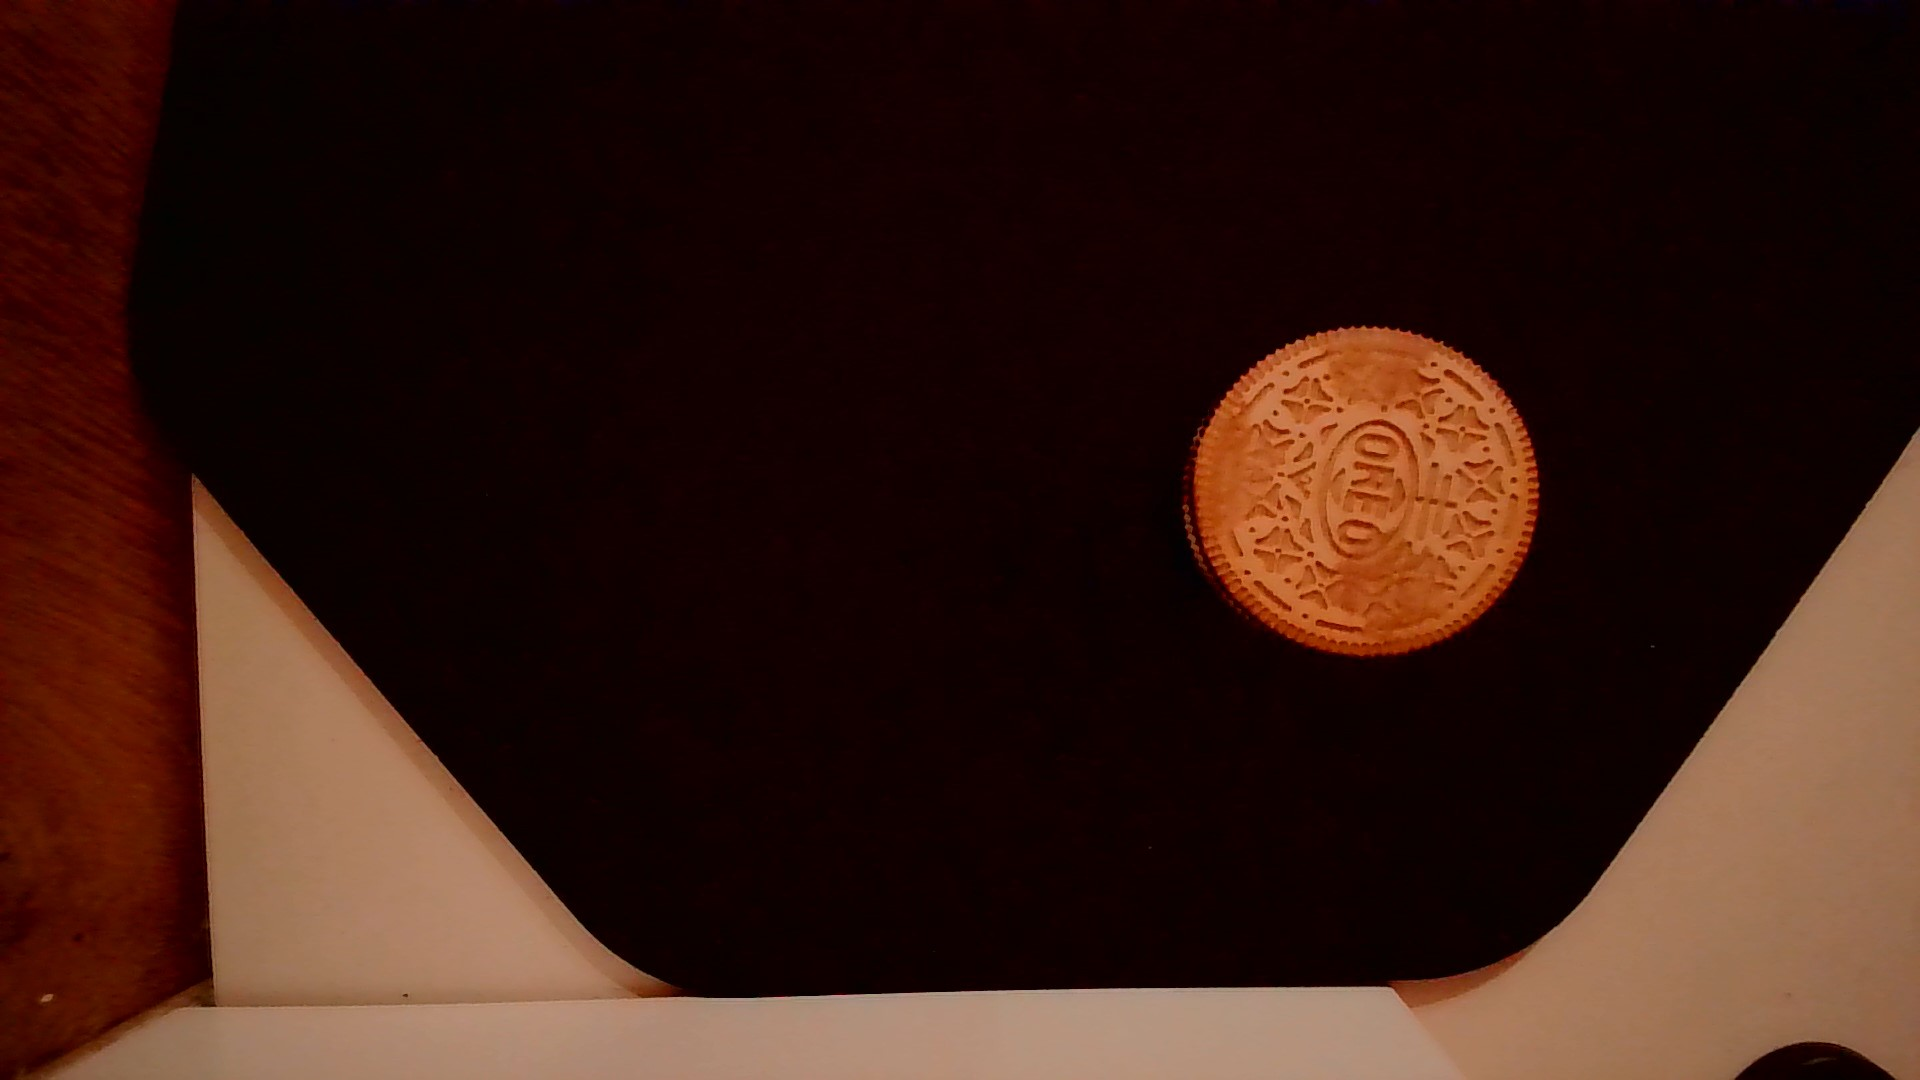Effacé: (1187, 419, 1276, 542), (1346, 556, 1462, 636), (1333, 327, 1439, 392)
Oréo: (1179, 316, 1552, 673)
